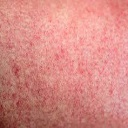Measles: (3, 23, 125, 122)
